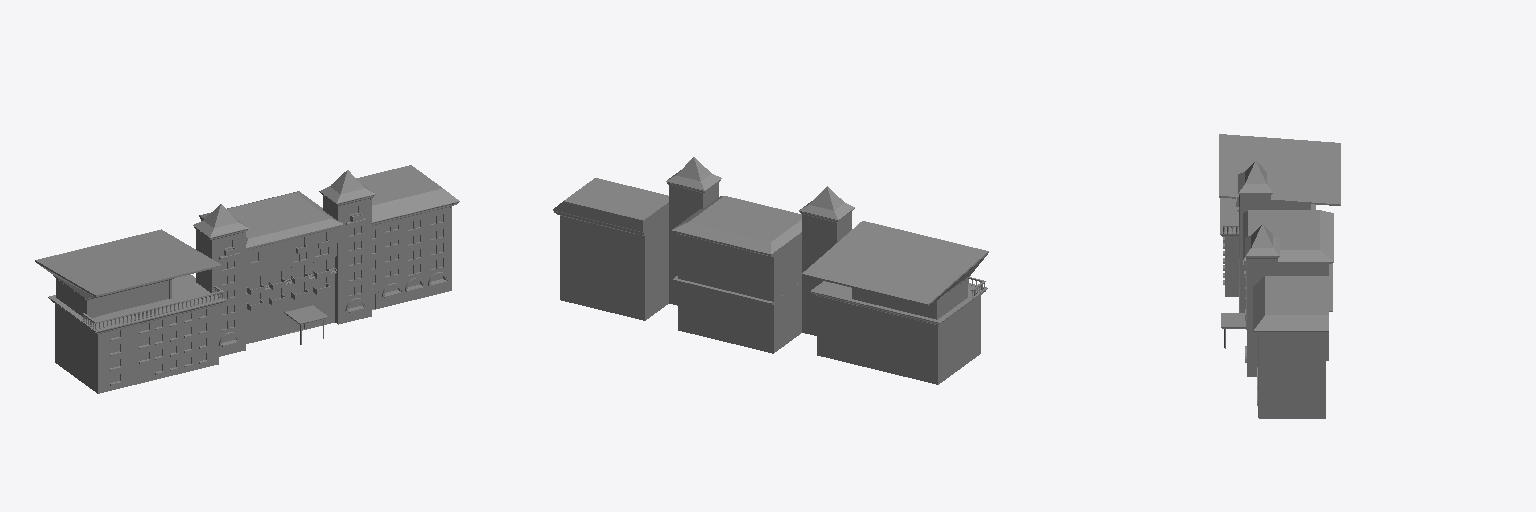
File: office22.obj
3 views of the same model, side by side, from view 1: azimuth 30°, elevation 25°; view 2: azimuth 150°, elevation 25°; view 3: azimuth 270°, elevation 25° (orthographic).
Visible parts, largest first — view 1: Object23, Object22, Object14, Object03, Object05, Object08, Object17, Object02, Object11, Object13, Object12, Object10 (+9 smaller); view 2: Object23, Object22, Object03, Object12, Object14, Object05, Object13, Object17, Object08, Box02, Box11, Object04; view 3: Object23, Object03, Object05, Object14, Object08, Box02, Box11, Box12, Object17, Object13.
Part boxes in pixels (bbox=[...]): Object23: bbox=[35, 229, 224, 331]; Object22: bbox=[55, 304, 218, 393]; Object14: bbox=[199, 191, 342, 293]; Object03: bbox=[372, 206, 451, 309]; Object05: bbox=[331, 165, 458, 222]; Object08: bbox=[323, 196, 371, 324]; Object17: bbox=[196, 230, 245, 356]; Object02: bbox=[372, 212, 445, 286]; Object11: bbox=[246, 289, 334, 339]; Object13: bbox=[199, 216, 343, 332]; Object12: bbox=[246, 245, 336, 343]; Object10: bbox=[247, 232, 328, 332]; Object23: bbox=[802, 221, 988, 323]; Object22: bbox=[817, 295, 980, 384]; Object03: bbox=[560, 216, 668, 320]; Object12: bbox=[678, 251, 801, 353]; Object14: bbox=[672, 196, 801, 302]; Object05: bbox=[553, 178, 668, 231]; Object13: bbox=[671, 230, 801, 304]; Object17: bbox=[802, 212, 851, 335]; Object08: bbox=[669, 183, 718, 305]; Box02: bbox=[666, 157, 721, 192]; Box11: bbox=[799, 186, 854, 222]; Object04: bbox=[553, 210, 668, 235]; Object23: bbox=[1219, 134, 1340, 233]; Object03: bbox=[1259, 334, 1325, 418]; Object05: bbox=[1253, 276, 1328, 330]; Object14: bbox=[1243, 210, 1333, 310]; Object08: bbox=[1247, 259, 1277, 376]; Box02: bbox=[1245, 224, 1279, 258]; Box11: bbox=[1238, 161, 1272, 194]; Box12: bbox=[1223, 237, 1238, 296]; Object17: bbox=[1240, 195, 1270, 312]; Object13: bbox=[1278, 262, 1333, 311].
Size of the model in its own units: 144 by 52.65 by 39.8.